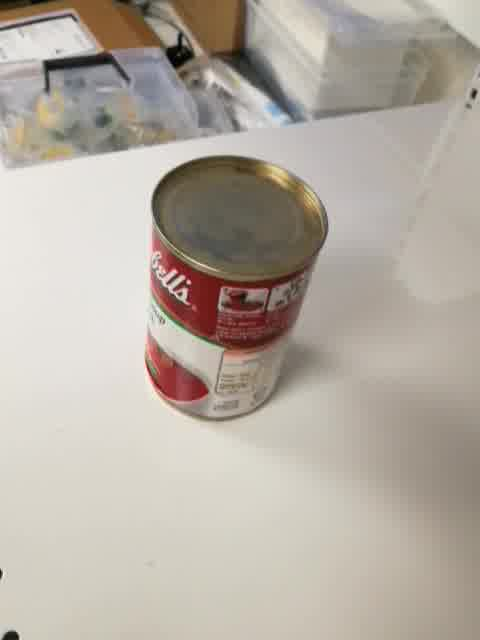tomatosoup: (142, 153, 331, 423)
